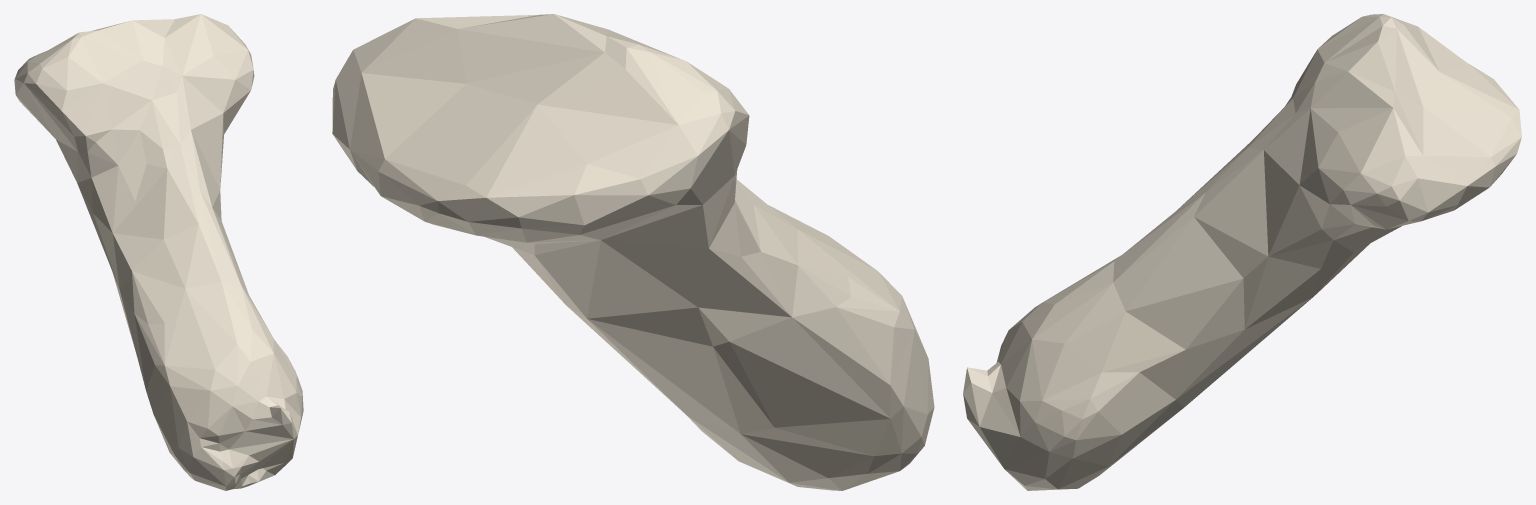
File: left_little_distal_phalanx.glb
The picture shows the model from 3 angles, left to right: view 1: azimuth 30°, elevation 25°; view 2: azimuth 150°, elevation 25°; view 3: azimuth 270°, elevation 25°; orthographic projection. The views are drawn at different scales.
Visible parts, largest first — view 1: left_little_distal_phalanx; view 2: left_little_distal_phalanx; view 3: left_little_distal_phalanx.
Boxes of the visible parts, box(x1,y1,x2,y2) form: left_little_distal_phalanx: box(14, 14, 303, 490); left_little_distal_phalanx: box(332, 14, 934, 490); left_little_distal_phalanx: box(963, 14, 1521, 490).
Size of the model in its own units: 0.00831 by 0.0127 by 0.0141.
